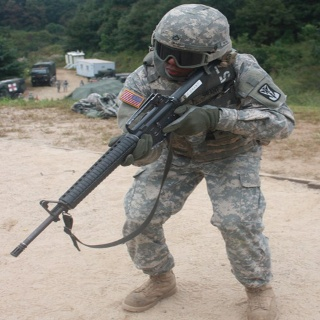rifle: (9, 58, 237, 258)
